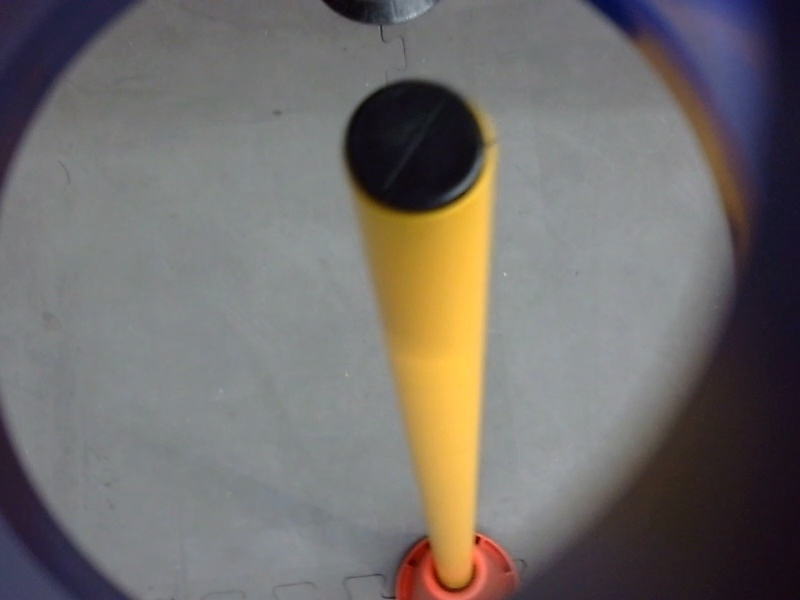tip: (329, 68, 503, 230)
